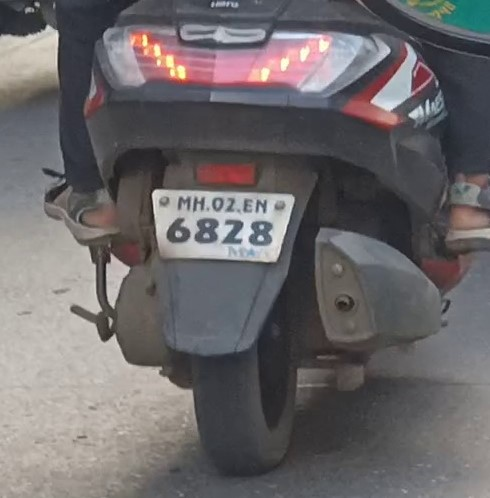MH02EN6828: (151, 189, 295, 263)
